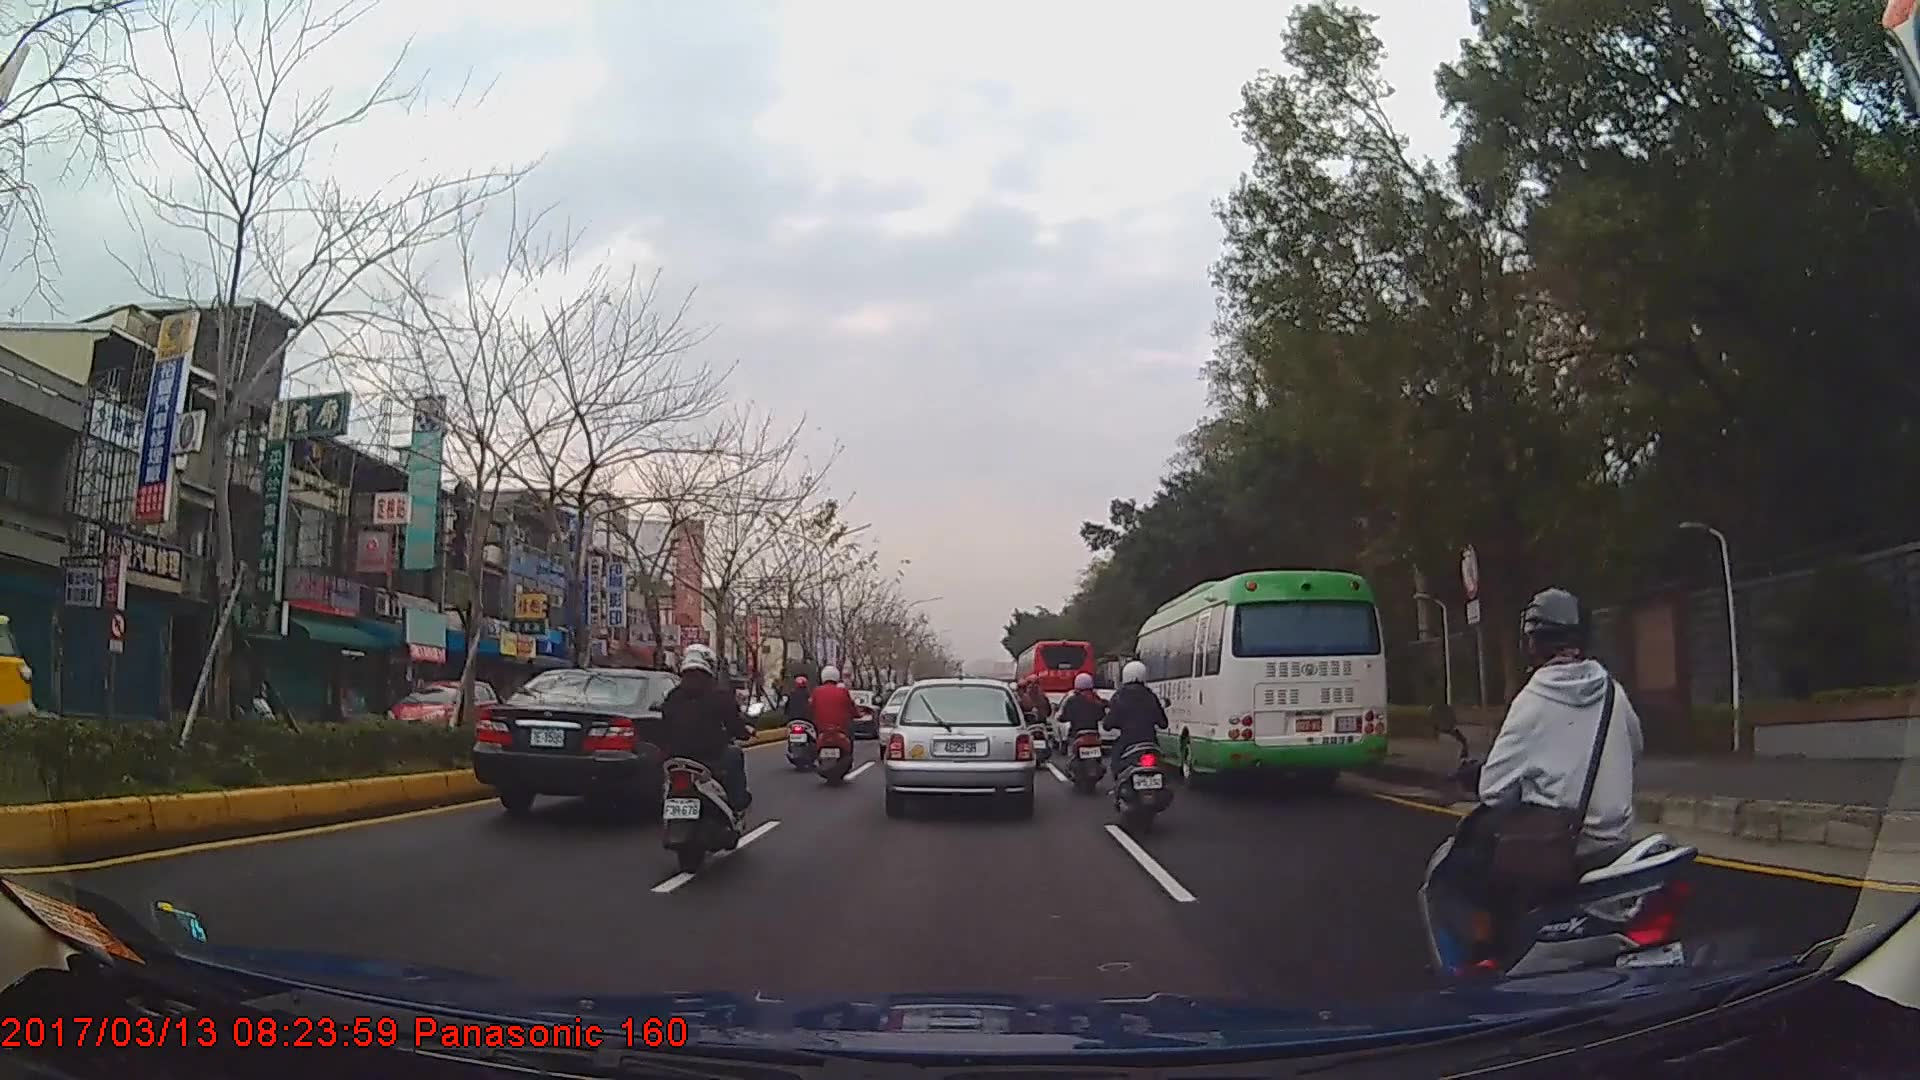rider: (1424, 582, 1699, 996), (654, 639, 754, 875), (1104, 659, 1181, 833), (1057, 669, 1110, 795), (808, 663, 857, 787), (783, 675, 822, 772), (1013, 670, 1049, 767)
vehicle: (1125, 568, 1389, 797), (469, 663, 736, 825), (882, 677, 1034, 815), (374, 676, 497, 752), (1013, 630, 1098, 726)
